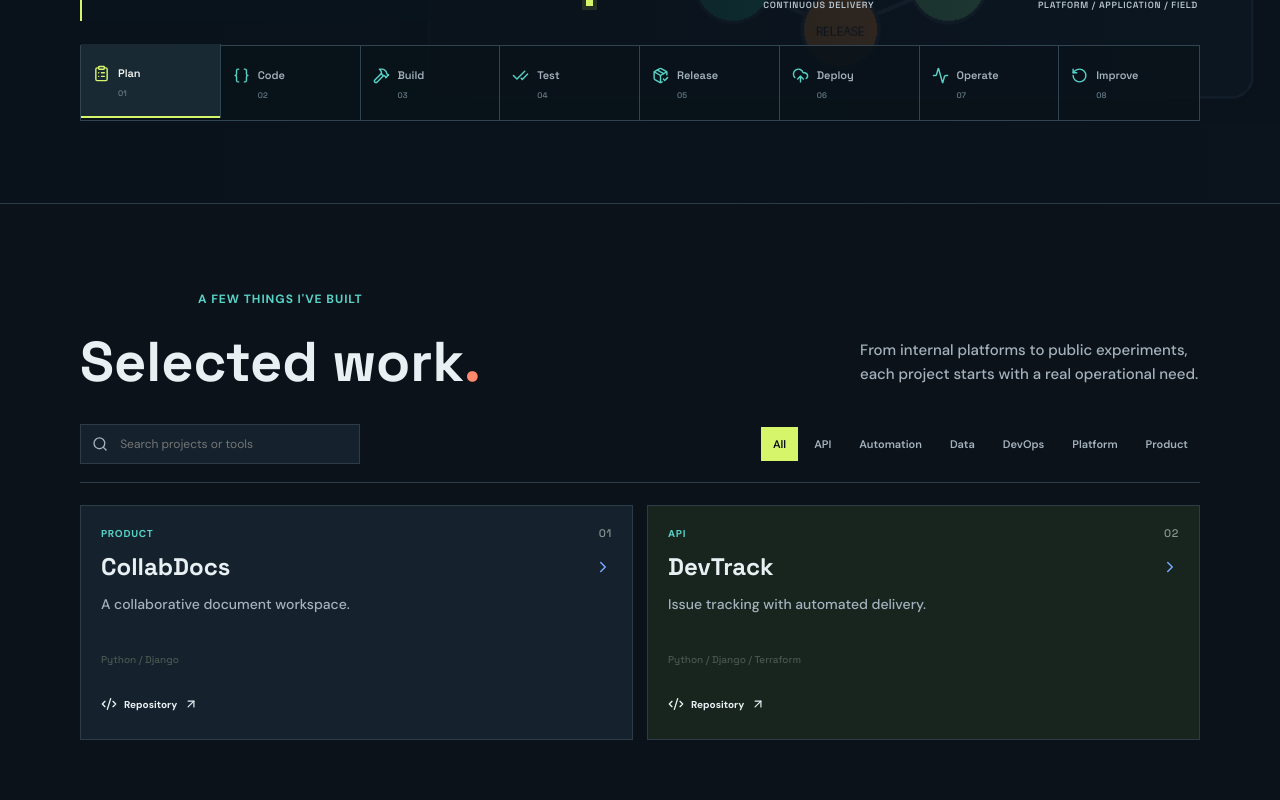
Test: portfolio website › shows an empty state when no project matches
The image size is (1280, 800).
(page scrolled)
Step 1. Type "no-such-project" into the search field labelled "Search projects" → (233, 444), box [118, 434, 348, 454]
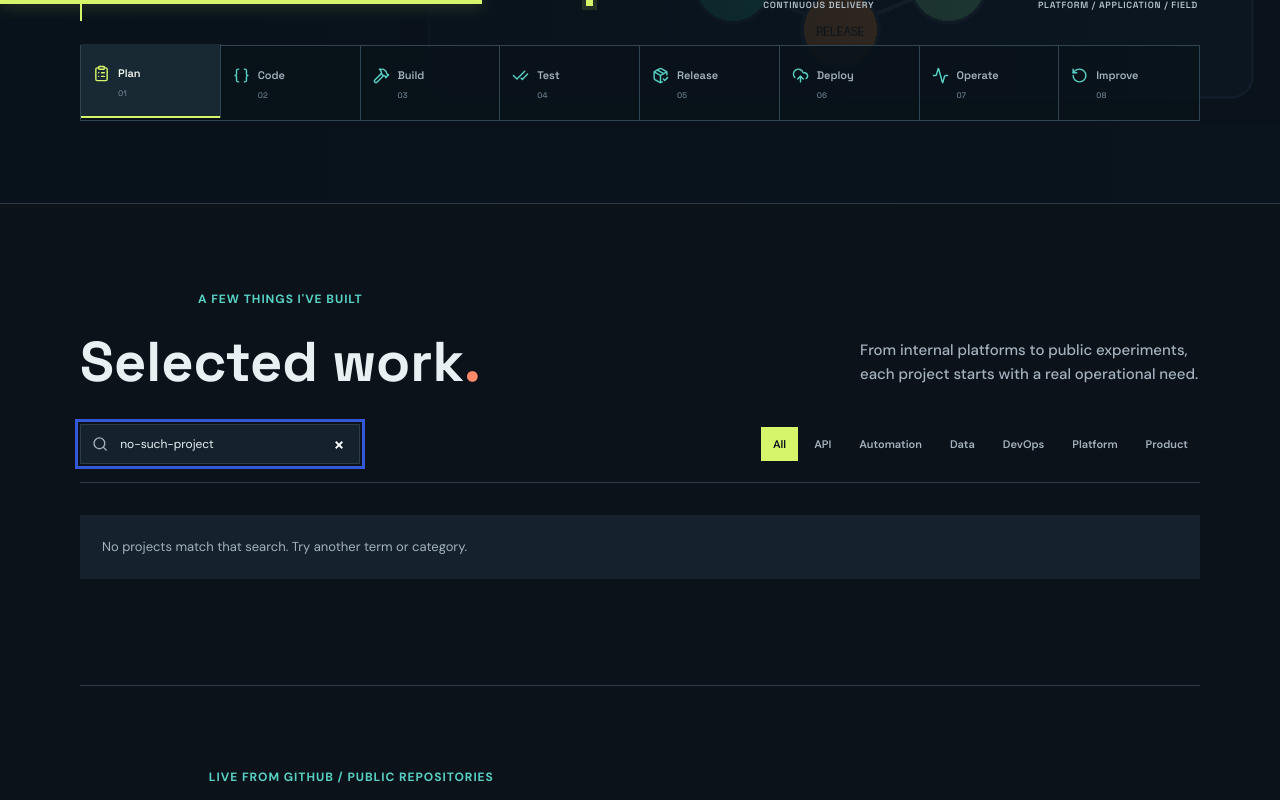
Result: the text "No projects match that search. Try another term or category." is shown at [80, 516, 1200, 579]
